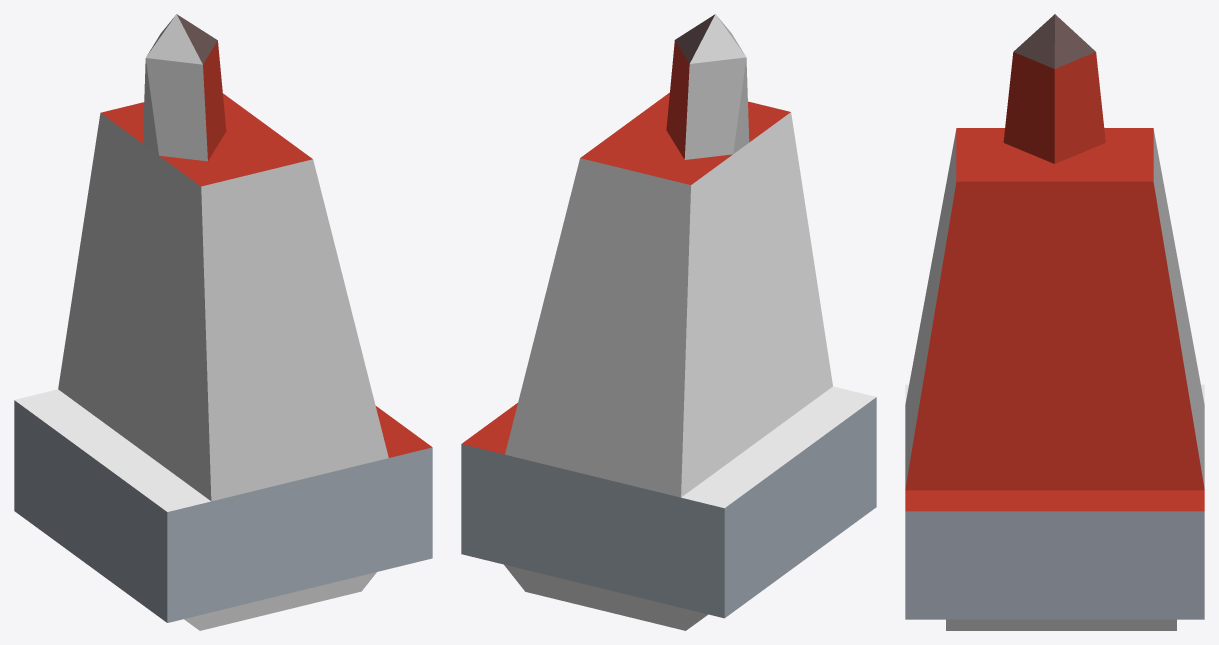
Rendered from bot.glb.
3 views of the same model, side by side, from view 1: azimuth 30°, elevation 25°; view 2: azimuth 150°, elevation 25°; view 3: azimuth 270°, elevation 25° (orthographic). The views are drawn at different scales.
Visible parts, largest first — view 1: imagetostl_mesh17, imagetostl_mesh26, imagetostl_mesh25, imagetostl_mesh2, imagetostl_mesh24, imagetostl_mesh28, imagetostl_mesh19, imagetostl_mesh6, imagetostl_mesh20, imagetostl_mesh13, imagetostl_mesh23, imagetostl_mesh10; view 2: imagetostl_mesh16, imagetostl_mesh26, imagetostl_mesh8, imagetostl_mesh2, imagetostl_mesh24, imagetostl_mesh28, imagetostl_mesh22, imagetostl_mesh3, imagetostl_mesh21, imagetostl_mesh12, imagetostl_mesh23, imagetostl_mesh11; view 3: imagetostl_mesh27, imagetostl_mesh1, imagetostl_mesh28, imagetostl_mesh23, imagetostl_mesh21, imagetostl_mesh20, imagetostl_mesh16, imagetostl_mesh17, imagetostl_mesh4, imagetostl_mesh11, imagetostl_mesh10.
Boxes of the visible parts, bbox=[...] form: imagetostl_mesh17: bbox=[201, 159, 388, 501]; imagetostl_mesh26: bbox=[58, 113, 211, 500]; imagetostl_mesh25: bbox=[167, 447, 432, 622]; imagetostl_mesh2: bbox=[14, 400, 167, 622]; imagetostl_mesh24: bbox=[14, 389, 210, 511]; imagetostl_mesh28: bbox=[101, 93, 312, 186]; imagetostl_mesh19: bbox=[145, 58, 207, 161]; imagetostl_mesh6: bbox=[184, 572, 376, 630]; imagetostl_mesh20: bbox=[203, 40, 226, 160]; imagetostl_mesh13: bbox=[146, 14, 202, 64]; imagetostl_mesh23: bbox=[375, 406, 432, 457]; imagetostl_mesh10: bbox=[177, 14, 217, 63]; imagetostl_mesh16: bbox=[505, 158, 690, 497]; imagetostl_mesh26: bbox=[681, 112, 832, 497]; imagetostl_mesh8: bbox=[461, 444, 724, 618]; imagetostl_mesh2: bbox=[724, 397, 876, 617]; imagetostl_mesh24: bbox=[681, 386, 875, 508]; imagetostl_mesh28: bbox=[580, 92, 790, 184]; imagetostl_mesh22: bbox=[684, 57, 746, 159]; imagetostl_mesh3: bbox=[504, 564, 708, 630]; imagetostl_mesh21: bbox=[666, 40, 689, 159]; imagetostl_mesh12: bbox=[690, 14, 745, 63]; imagetostl_mesh23: bbox=[462, 403, 517, 454]; imagetostl_mesh11: bbox=[675, 14, 714, 63]; imagetostl_mesh27: bbox=[905, 181, 1204, 490]; imagetostl_mesh1: bbox=[905, 511, 1204, 619]; imagetostl_mesh28: bbox=[956, 128, 1153, 181]; imagetostl_mesh23: bbox=[905, 490, 1204, 511]; imagetostl_mesh21: bbox=[1054, 52, 1105, 163]; imagetostl_mesh20: bbox=[1003, 52, 1054, 163]; imagetostl_mesh16: bbox=[1153, 130, 1204, 488]; imagetostl_mesh17: bbox=[905, 130, 956, 488]; imagetostl_mesh4: bbox=[946, 619, 1176, 630]; imagetostl_mesh11: bbox=[1054, 14, 1095, 68]; imagetostl_mesh10: bbox=[1013, 14, 1054, 68].
Size of the model in its own units: 50.63 by 104 by 50.63.
